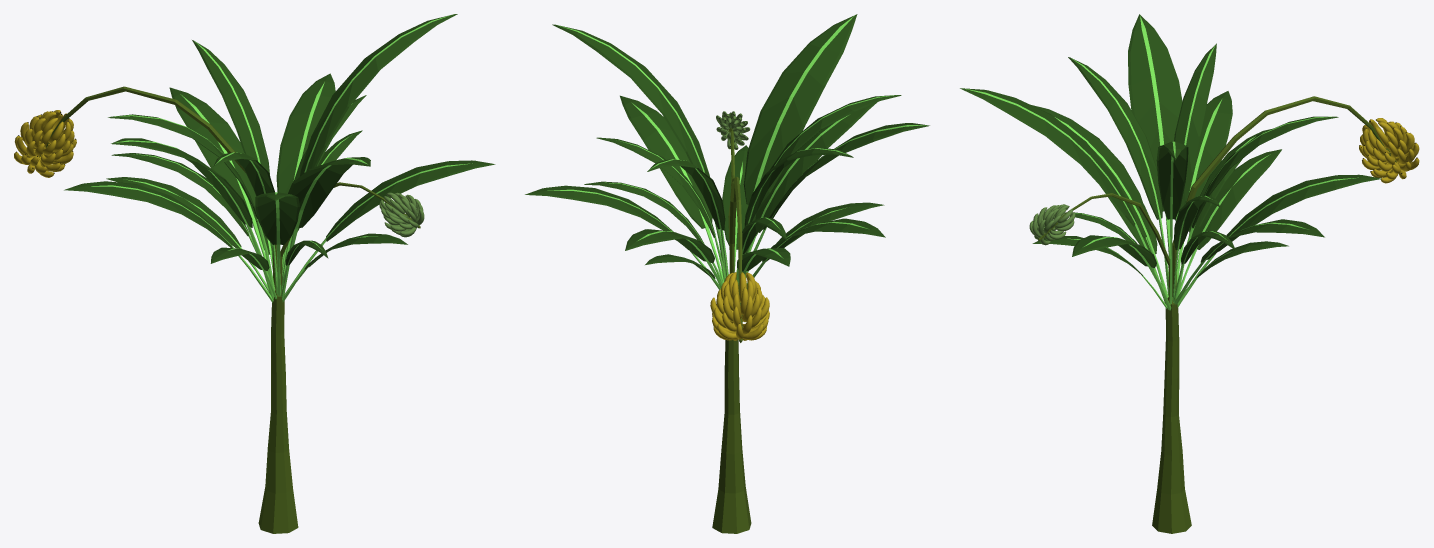
File: SM_BananaTree_002.fbx
3 renders of one model, left to right at view 1: azimuth 30°, elevation 25°; view 2: azimuth 150°, elevation 25°; view 3: azimuth 270°, elevation 25°, orthographic. The views are drawn at different scales.
Visible parts, largest first — view 1: BananaTree; view 2: BananaTree; view 3: BananaTree.
Boxes of the visible parts, bbox=[...] form: BananaTree: bbox=[14, 14, 495, 533]; BananaTree: bbox=[525, 14, 929, 533]; BananaTree: bbox=[960, 14, 1419, 533].
Size of the model in its own units: 335 by 407 by 376.
